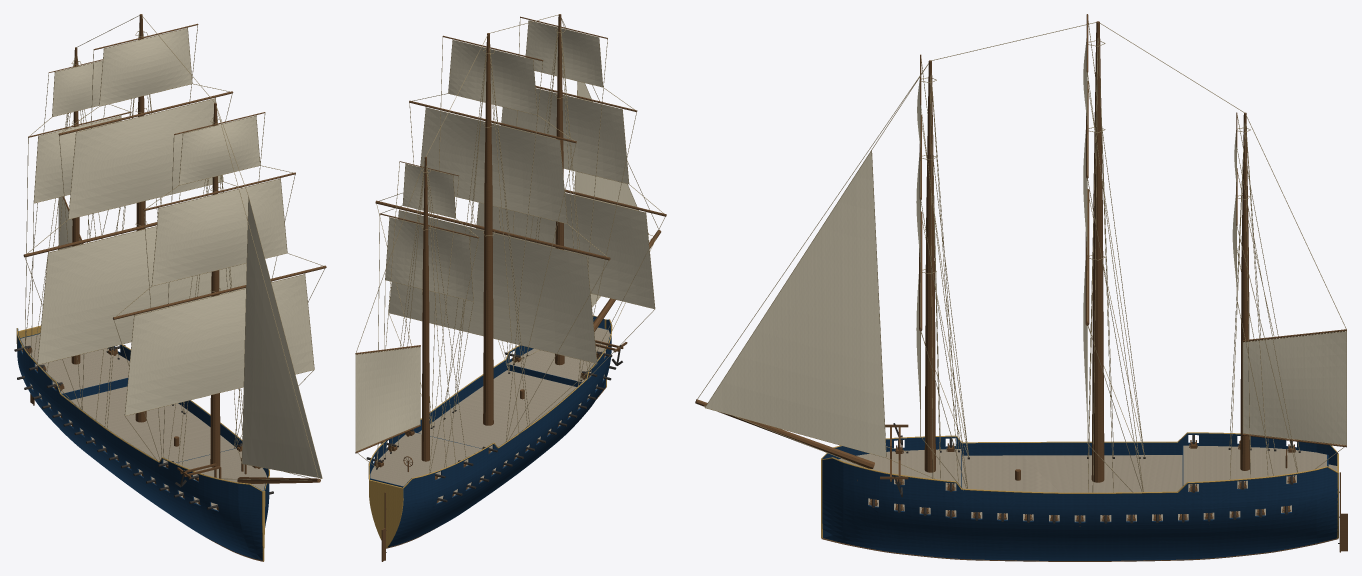
The picture shows the model from 3 angles, left to right: view 1: azimuth 30°, elevation 25°; view 2: azimuth 150°, elevation 25°; view 3: azimuth 270°, elevation 25°; orthographic projection. The views are drawn at different scales.
Parts seen in each view (by area): view 1: lod2_fore_square_00, lod2_main_square_00, lod2_hull_shell_starboard, lod2_jib_00, lod2_main_square_01, lod2_fore_square_01, lod2_main_deck, lod2_main_square_02, lod2_fore_square_02, lod2_castle_deck_0, lod2_mizzen_square_00, lod2_mizzen_square_01 (+14 smaller); view 2: lod2_main_square_00, lod2_main_square_01, lod2_hull_shell_starboard, lod2_fore_square_00, lod2_fore_square_01, lod2_main_deck, lod2_mizzen_gaff_02, lod2_mizzen_square_00, lod2_main_square_02, lod2_main, lod2_fore_square_02, lod2_castle_deck_0 (+15 smaller); view 3: lod2_hull_shell_port, lod2_jib_00, lod2_mizzen_gaff_02, lod2_main_deck, lod2_hull_shell_starboard, lod2_main, lod2_castle_deck_0, lod2_fore, lod2_castle_deck_1, lod2_mizzen, lod2_gunwale_port, lod2_bowsprit (+1 smaller).
Part boxes in pixels (<box>): lod2_fore_square_00: <box>125,274,314,415</box>; lod2_main_square_00: <box>37,226,246,364</box>; lod2_hull_shell_starboard: <box>17,328,262,560</box>; lod2_jib_00: <box>242,198,321,477</box>; lod2_main_square_01: <box>68,99,222,218</box>; lod2_fore_square_01: <box>152,179,286,285</box>; lod2_main_deck: <box>70,386,235,463</box>; lod2_main_square_02: <box>99,28,191,105</box>; lod2_fore_square_02: <box>179,116,259,184</box>; lod2_castle_deck_0: <box>20,334,129,393</box>; lod2_mizzen_square_00: <box>34,116,120,202</box>; lod2_mizzen_square_01: <box>52,61,102,116</box>; lod2_main_square_00: <box>389,210,596,363</box>; lod2_main_square_01: <box>420,108,567,223</box>; lod2_hull_shell_starboard: <box>387,319,611,547</box>; lod2_fore_square_00: <box>476,193,654,308</box>; lod2_fore_square_01: <box>501,88,628,183</box>; lod2_main_deck: <box>418,370,576,448</box>; lod2_mizzen_gaff_02: <box>356,347,420,451</box>; lod2_mizzen_square_00: <box>385,218,473,300</box>; lod2_main_square_02: <box>448,40,537,114</box>; lod2_main: <box>483,33,493,425</box>; lod2_fore_square_02: <box>526,21,602,86</box>; lod2_castle_deck_0: <box>370,432,491,486</box>; lod2_hull_shell_port: <box>822,458,1337,560</box>; lod2_jib_00: <box>705,151,886,457</box>; lod2_mizzen_gaff_02: <box>1243,331,1346,444</box>; lod2_main_deck: <box>962,455,1337,492</box>; lod2_hull_shell_starboard: <box>822,433,1337,465</box>; lod2_main: <box>1091,21,1104,482</box>; lod2_castle_deck_0: <box>1183,445,1326,491</box>; lod2_fore: <box>924,60,935,472</box>; lod2_castle_deck_1: <box>839,449,961,490</box>; lod2_mizzen: <box>1240,112,1249,470</box>; lod2_gunwale_port: <box>821,457,1338,493</box>; lod2_bowsprit: <box>695,399,874,468</box>.
Bounding box in the file's own units: 29.5 × 55.43 × 60.69.
7 materials, 7 textured.
